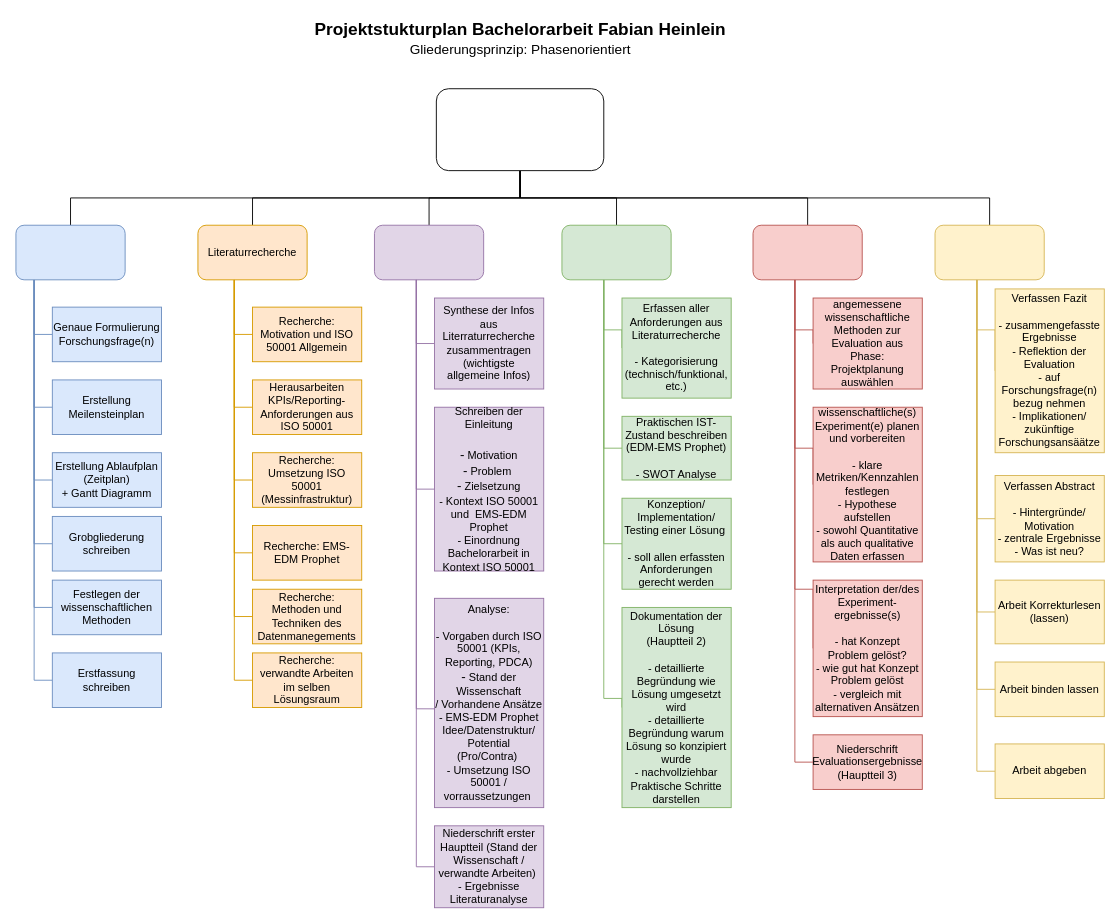
Image size: 1120x924. Some labels were removed from this diagram. Here are the shapes that lost their labels. From the top down, the centre of each, then its label:
At point (519, 129): "Bachelorarbeit - Fabian Heinlein".
At point (70, 252): "Projektplanung".
At point (429, 252): "Ergebnisse der Literaturrecherche auswerten".
At point (616, 252): "Konzeption und Implementation Problemlösung".
At point (807, 252): "Evaluation der Problemlösung".
At point (989, 252): "Abschluss der Arbeit".
